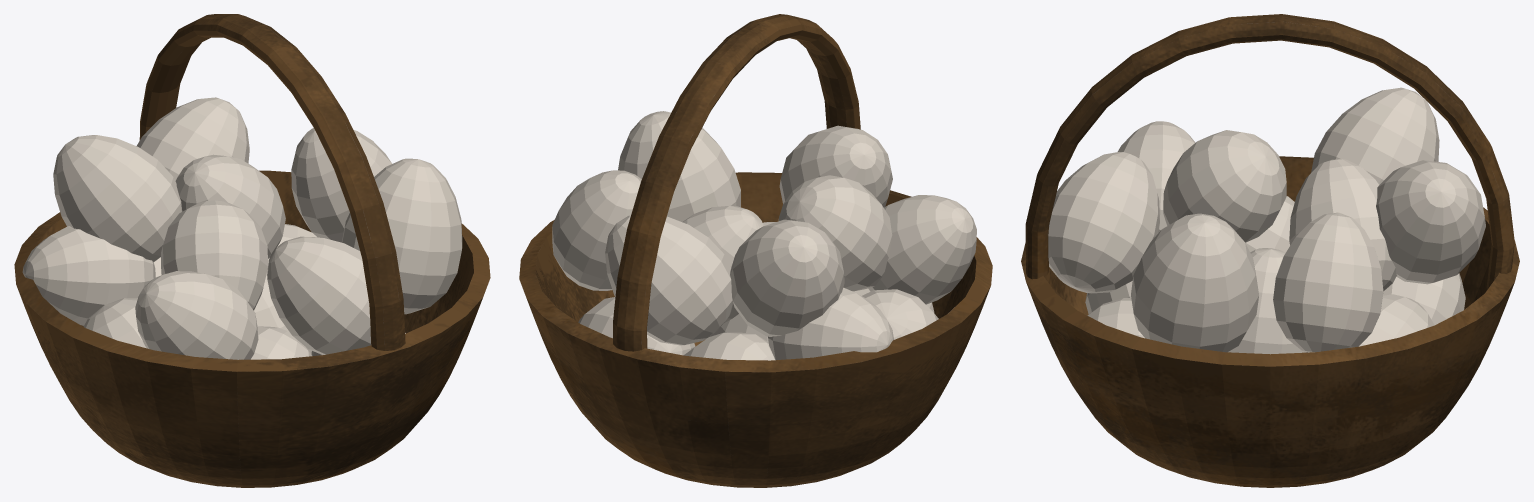
Rendered from canasta huevos.fbx.
3 renders of one model, left to right at view 1: azimuth 30°, elevation 25°; view 2: azimuth 150°, elevation 25°; view 3: azimuth 270°, elevation 25°, orthographic. The views are drawn at different scales.
Visible parts, largest first — view 1: Torus.001, Huevo_14, Huevo_13, Huevo_12, Huevo_11.001, Huevo_07, Huevo_11, Huevo_15, Huevo_10, Huevo_09, Huevo_04, Huevo_06 (+1 smaller); view 2: Torus.001, Huevo_14, Huevo_15, Huevo_11.001, Huevo_11, Huevo_09, Huevo_12, Huevo_13, Huevo_07, Huevo_10, Huevo_04, Huevo_01 (+2 smaller); view 3: Torus.001, Huevo_12, Huevo_13, Huevo_09, Huevo_15, Huevo_11, Huevo_14, Huevo_10, Huevo_03, Huevo_11.001, Huevo_01, Huevo_05 (+3 smaller).
Boxes of the visible parts, box(x1,y1,x2,y2) form: Torus.001: box(14, 14, 490, 487); Huevo_14: box(53, 135, 182, 262); Huevo_13: box(267, 236, 371, 354); Huevo_12: box(341, 158, 462, 314); Huevo_11.001: box(135, 271, 258, 359); Huevo_07: box(22, 226, 155, 325); Huevo_11: box(161, 200, 267, 310); Huevo_15: box(136, 97, 249, 180); Huevo_10: box(175, 154, 285, 258); Huevo_09: box(291, 128, 391, 242); Huevo_04: box(83, 298, 146, 348); Huevo_06: box(251, 326, 311, 359); Torus.001: box(519, 14, 992, 487); Huevo_14: box(730, 219, 844, 336); Huevo_15: box(605, 215, 733, 345); Huevo_11.001: box(868, 195, 976, 304); Huevo_11: box(778, 175, 892, 291); Huevo_09: box(552, 170, 641, 290); Huevo_12: box(618, 111, 740, 221); Huevo_13: box(779, 125, 892, 207); Huevo_07: box(768, 287, 893, 359); Huevo_10: box(682, 205, 763, 323); Huevo_04: box(862, 289, 938, 339); Huevo_01: box(683, 332, 775, 360); Torus.001: box(1021, 14, 1519, 487); Huevo_12: box(1131, 213, 1258, 352); Huevo_13: box(1048, 152, 1159, 293); Huevo_09: box(1273, 212, 1383, 352); Huevo_15: box(1376, 160, 1485, 284); Huevo_11: box(1163, 130, 1286, 242); Huevo_14: box(1311, 87, 1439, 183); Huevo_10: box(1289, 159, 1396, 291); Huevo_03: box(1228, 248, 1306, 354); Huevo_11.001: box(1117, 121, 1195, 232); Huevo_01: box(1383, 273, 1465, 325); Huevo_05: box(1306, 294, 1434, 352).
Size of the model in its own units: 76.9 by 73.74 by 76.9.
3 materials, 1 textured.
